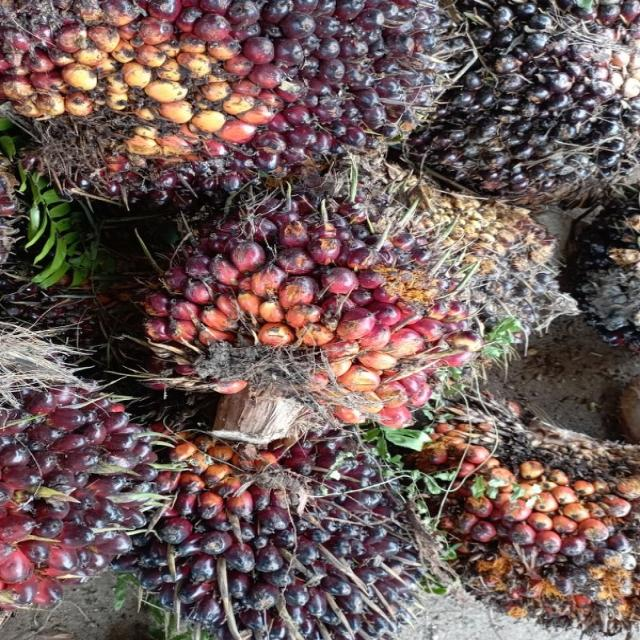fraksi 00: (0, 0, 489, 258), (75, 429, 508, 640), (389, 0, 640, 237)
fraksi 1: (82, 95, 599, 523)
